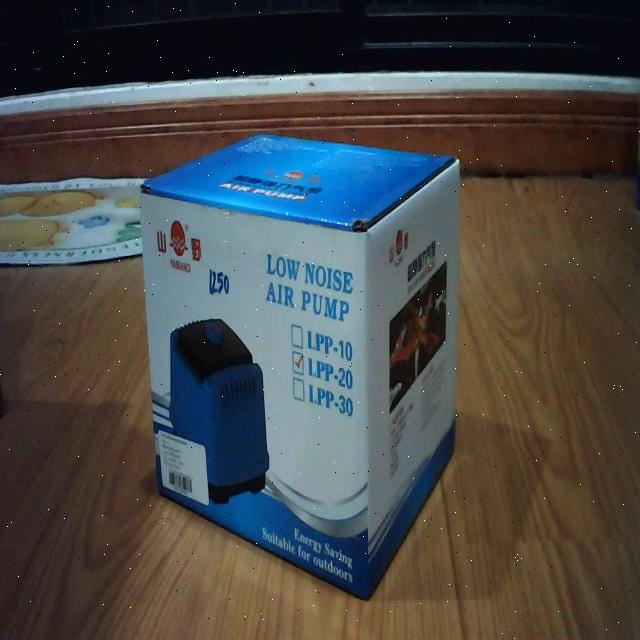YAMANO_LPP_20: (140, 118, 470, 604)
